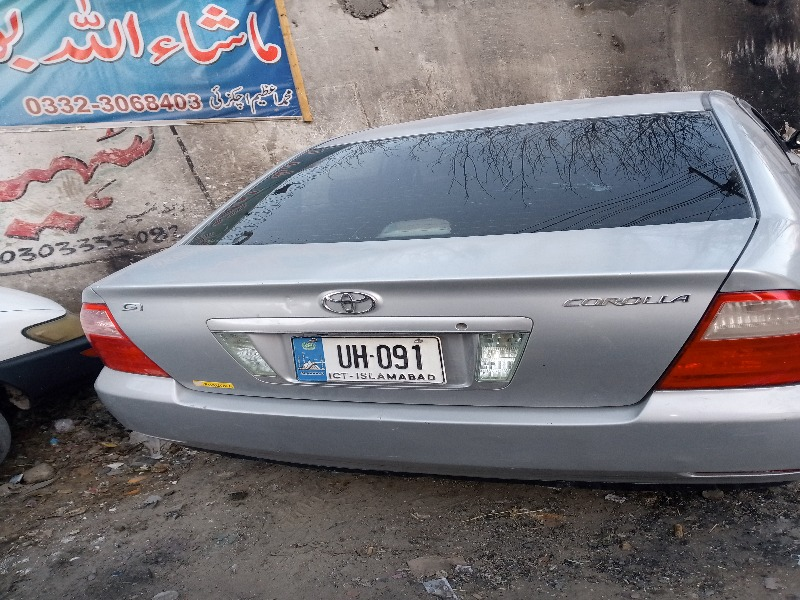License Plate: (289, 328, 449, 392)
